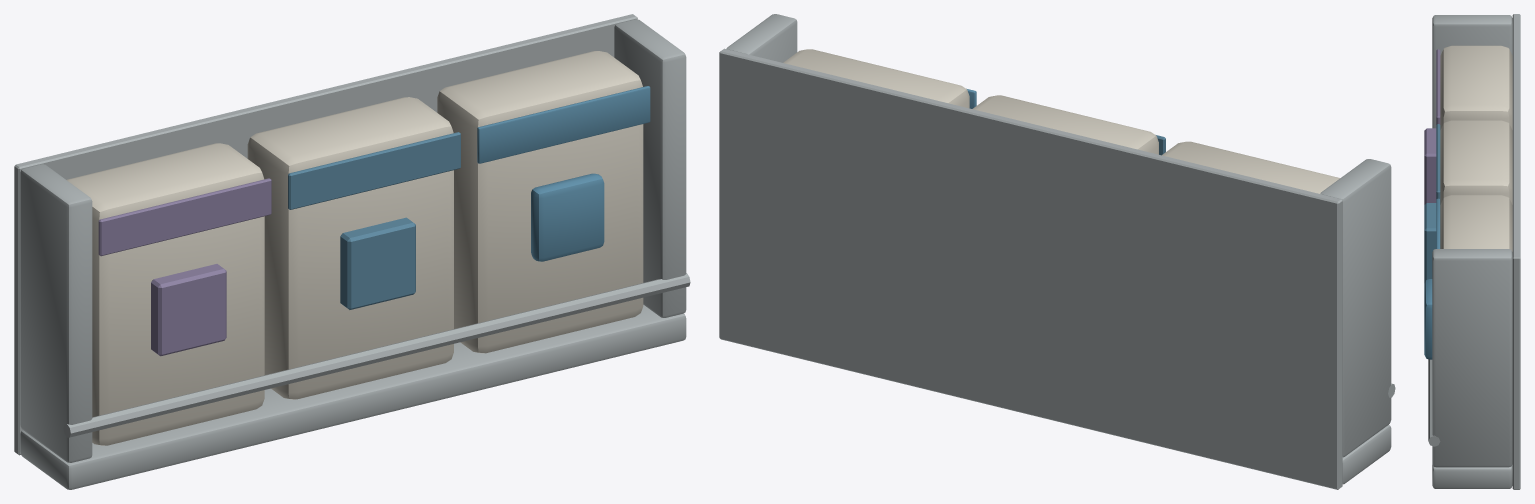
The model's file is glove-dispenser.glb.
3 views of the same model, side by side, from view 1: azimuth 30°, elevation 25°; view 2: azimuth 150°, elevation 25°; view 3: azimuth 270°, elevation 25° (orthographic). The views are drawn at different scales.
Parts seen in each view (by area): view 1: glove-dispenser; view 2: glove-dispenser; view 3: glove-dispenser.
Part boxes in pixels (x1,y1,x2,y2): glove-dispenser: [14, 14, 690, 489]; glove-dispenser: [719, 14, 1395, 489]; glove-dispenser: [1424, 14, 1520, 489].
Size of the model in its own units: 0.72 by 0.32 by 0.12.
